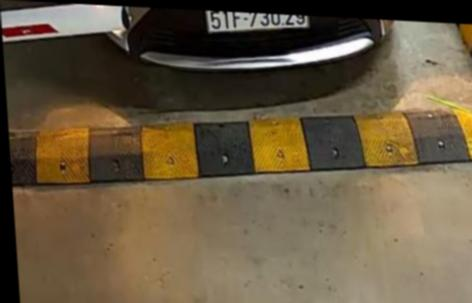License_Plate: (204, 12, 316, 46)
